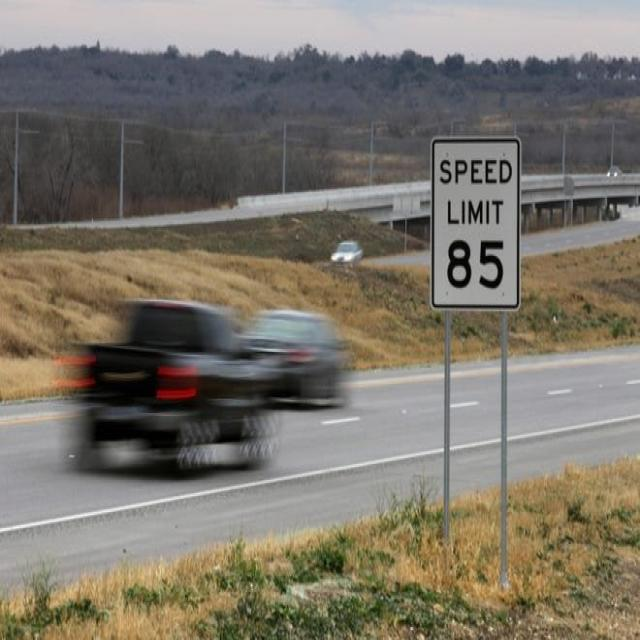speedLimit85: (432, 128, 520, 323)
